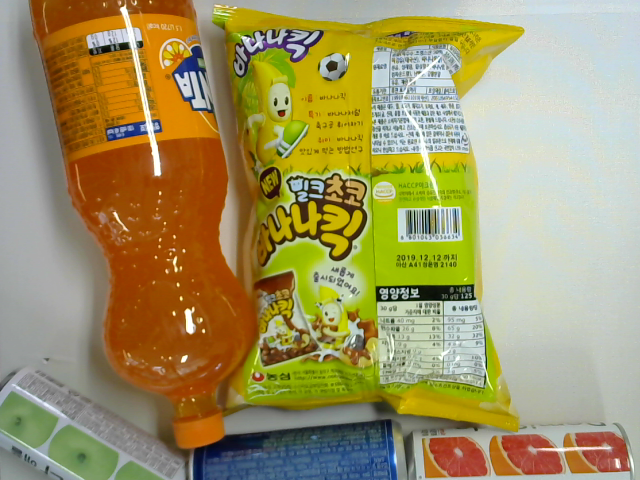Banana_Kick: (215, 6, 526, 435)
Demisoda_Apple_Can_250ml: (1, 356, 191, 480)
Demisoda_Grapefruit_Can_250ml: (404, 424, 639, 480)
Hwanta_Orange_1.5L: (30, 1, 259, 456)
Pepsi_Cola_Can_250ml: (188, 417, 407, 480)
